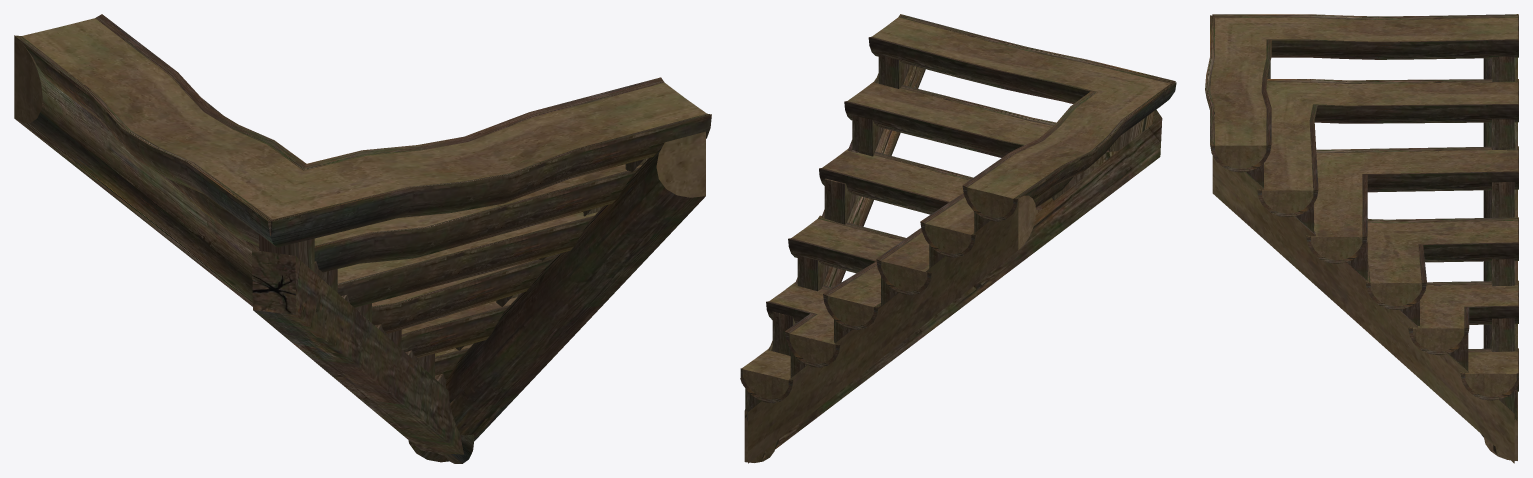
The picture shows the model from 3 angles, left to right: view 1: azimuth 30°, elevation 25°; view 2: azimuth 150°, elevation 25°; view 3: azimuth 270°, elevation 25°; orthographic projection. The views are drawn at different scales.
Visible parts, largest first — view 1: SM_T1_Stairs_InnerCorner_LOD0; view 2: SM_T1_Stairs_InnerCorner_LOD0; view 3: SM_T1_Stairs_InnerCorner_LOD0.
Part boxes in pixels (x1,y1,x2,y2): SM_T1_Stairs_InnerCorner_LOD0: (14, 14, 711, 463); SM_T1_Stairs_InnerCorner_LOD0: (740, 14, 1176, 463); SM_T1_Stairs_InnerCorner_LOD0: (1205, 14, 1518, 463).
Bounding box in the file's own units: 1.55 × 1.74 × 1.55.
Materials: 1 (1 with a texture image).
